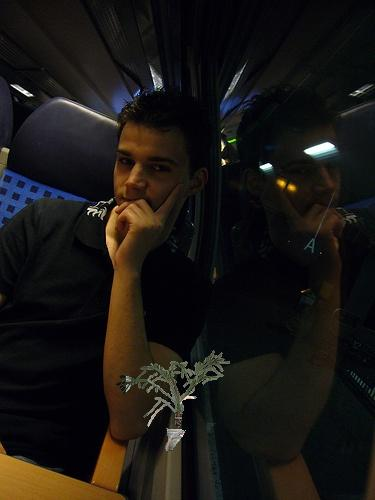tampered: (117, 351, 230, 451)
